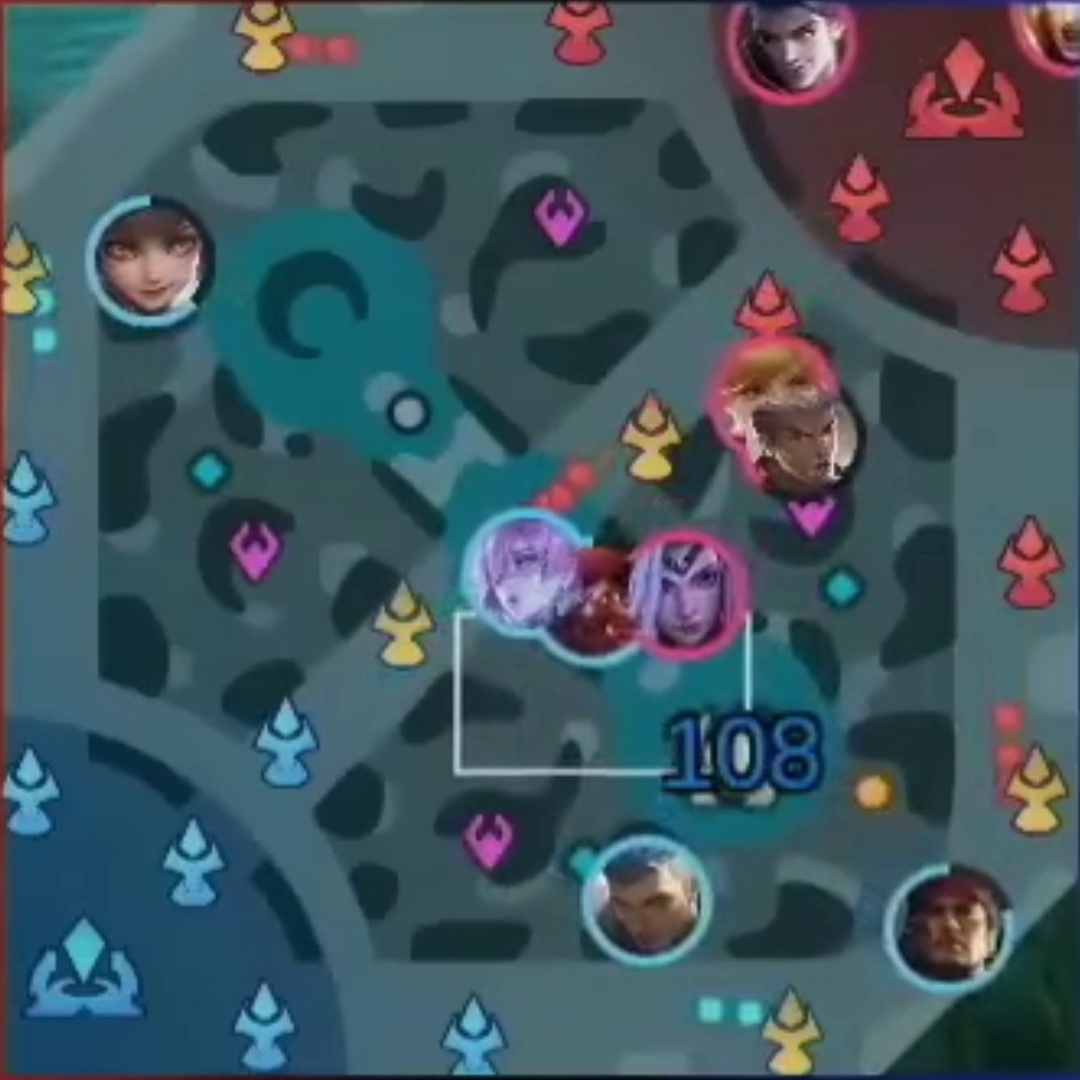Chou: (761, 399, 844, 486)
Claude: (752, 3, 834, 93)
Fanny: (733, 351, 813, 408)
Fredrinn: (605, 851, 690, 947)
Lapu-Lapu: (911, 880, 991, 977)
Minotaur: (575, 566, 620, 657)
Novaria: (484, 530, 563, 621)
Valentina: (640, 541, 728, 643)
Wanwan: (102, 216, 202, 313)
